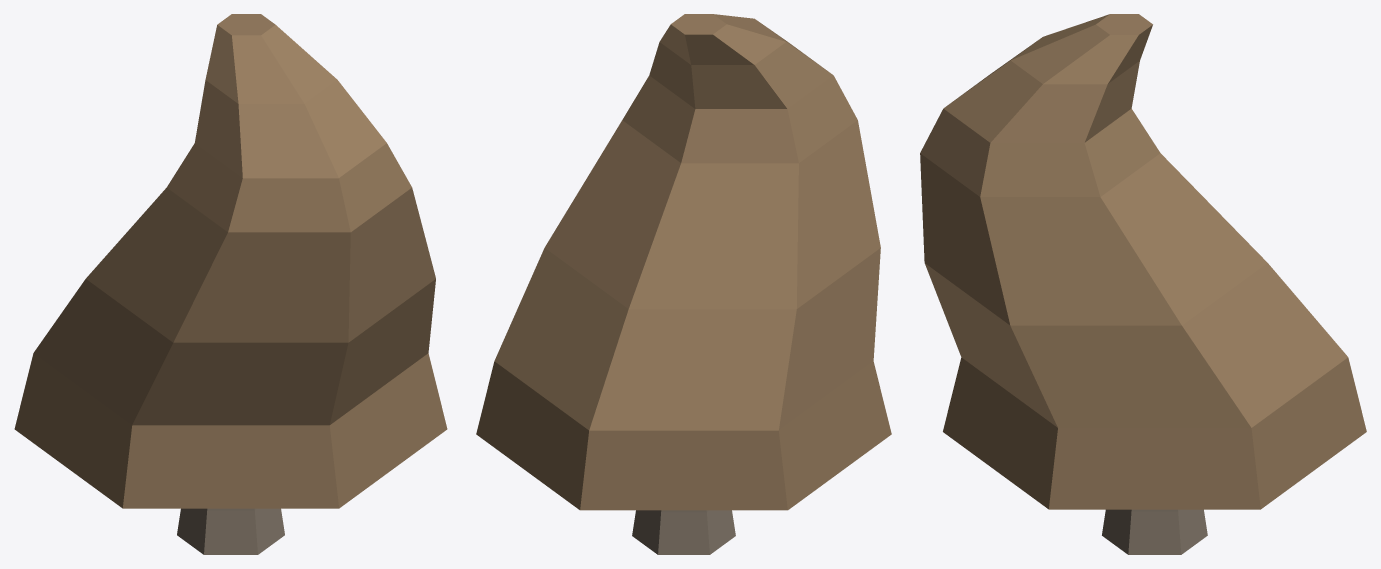
Rendered from Cogumelo 3.fbx.
3 renders of one model, left to right at view 1: azimuth 30°, elevation 25°; view 2: azimuth 150°, elevation 25°; view 3: azimuth 270°, elevation 25°, orthographic. The views are drawn at different scales.
Visible parts, largest first — view 1: Cogumelo 2; view 2: Cogumelo 2; view 3: Cogumelo 2.
Part boxes in pixels (<box>): Cogumelo 2: <box>14,14,447,554</box>; Cogumelo 2: <box>476,14,891,554</box>; Cogumelo 2: <box>920,14,1366,554</box>.
Size of the model in its own units: 566 by 868 by 688.
